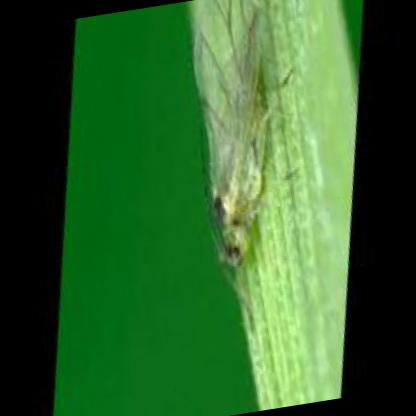schizaphis graminum: (195, 0, 266, 269)
